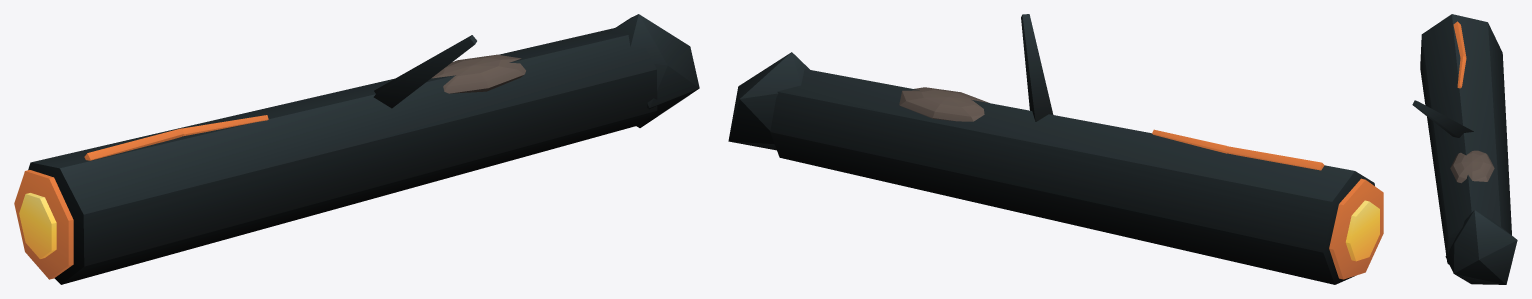
Rendered from charred_log.glb.
The picture shows the model from 3 angles, left to right: view 1: azimuth 30°, elevation 25°; view 2: azimuth 150°, elevation 25°; view 3: azimuth 270°, elevation 25°; orthographic projection. The views are drawn at different scales.
Parts seen in each view (by area): view 1: charred_log; view 2: charred_log; view 3: charred_log.
Boxes of the visible parts, x1,y1,x2,y2 form: charred_log: [14, 14, 699, 284]; charred_log: [728, 14, 1383, 284]; charred_log: [1412, 14, 1517, 284].
Bounding box in the file's own units: 4.05 × 1 × 0.8311.
4 materials, 4 textured.
